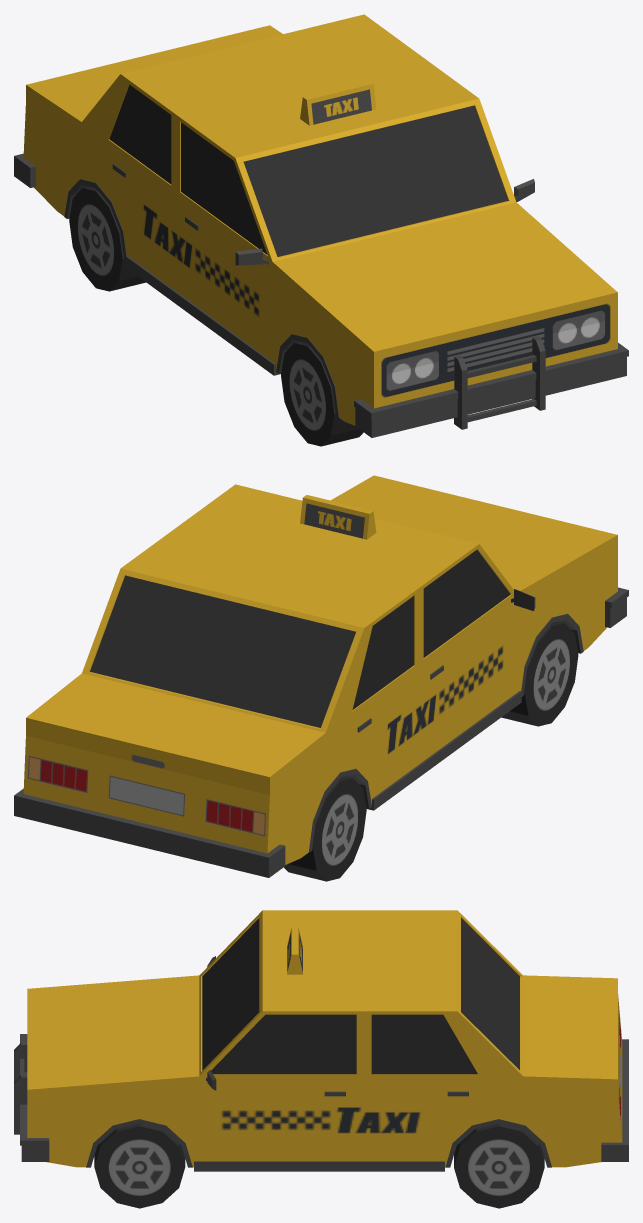
Rendered from taxi.glb.
3 views of the same model, one above another, from view 1: azimuth 30°, elevation 25°; view 2: azimuth 150°, elevation 25°; view 3: azimuth 270°, elevation 25° (orthographic). The views are drawn at different scales.
Visible parts, largest first — view 1: Body, FR, RR; view 2: Body, RR, FR; view 3: Body, FL, RL.
Boxes of the visible parts, x1,y1,x2,y2 form: Body: [14, 14, 628, 437]; FR: [281, 341, 363, 446]; RR: [69, 186, 145, 291]; Body: [14, 475, 628, 877]; RR: [284, 776, 366, 881]; FR: [501, 621, 578, 726]; Body: [14, 910, 628, 1171]; FL: [94, 1123, 185, 1208]; RL: [454, 1123, 544, 1208].
Size of the model in its own units: 3.06 by 2.51 by 6.43.
Materials: 1 (1 with a texture image).
